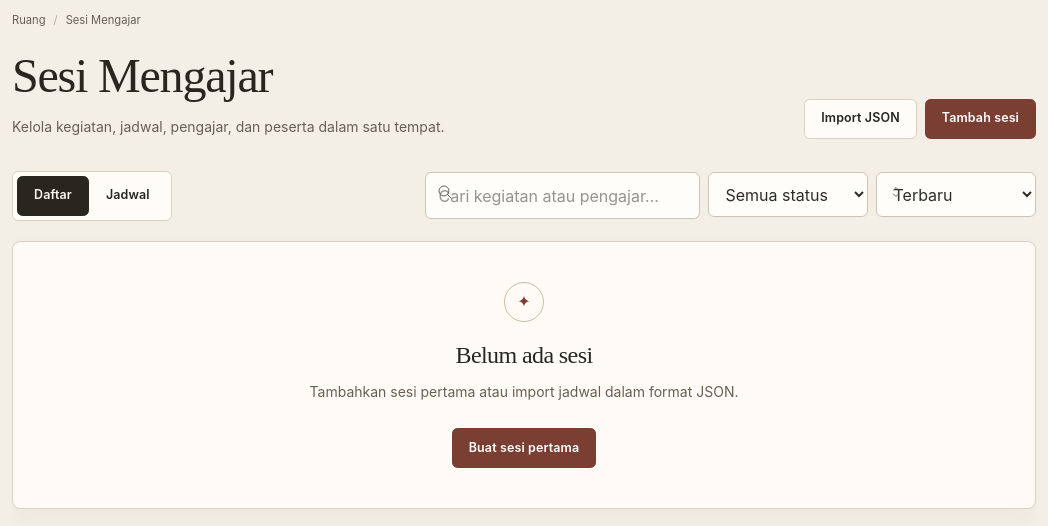
SessionsPage › trusts server search results instead of hiding valid matches on the current page
expect the heading "Belum ada sesi" is shown: met, box [456, 342, 592, 368]
In the field named "Cari sesi": (563, 196) [425, 172, 700, 220], type "python"
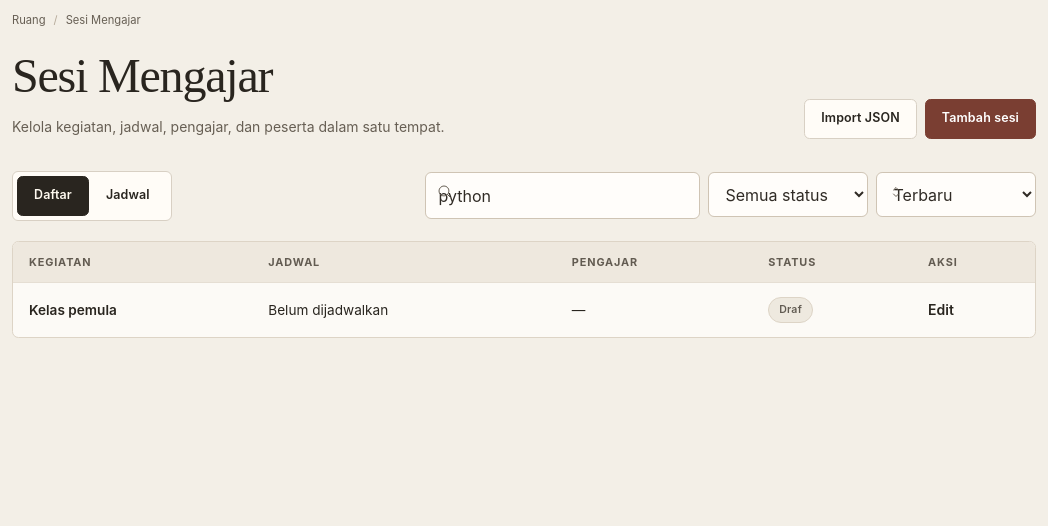
expect the link "Kelas pemula" is shown: met, box [29, 302, 117, 318]
